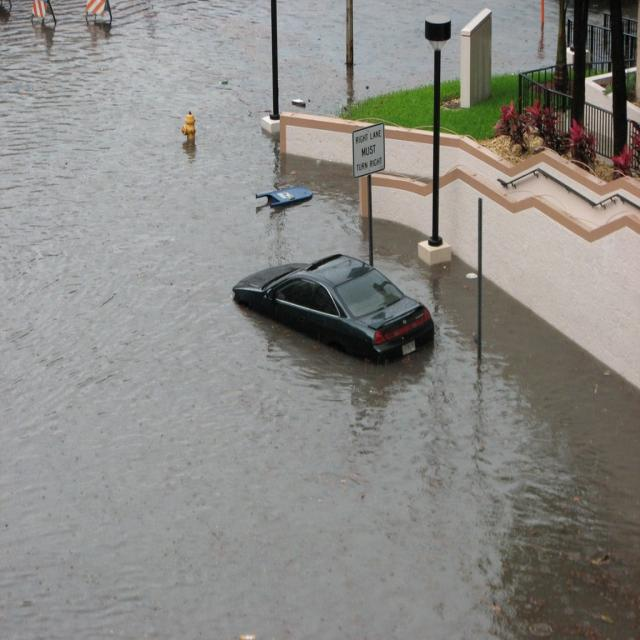car: (225, 246, 433, 372)
